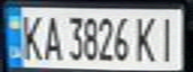2: (97, 14, 118, 62)
3: (63, 12, 84, 62)
6: (112, 12, 136, 63)
8: (81, 12, 100, 62)
A: (39, 11, 63, 62)
I: (154, 12, 184, 62)
K: (15, 10, 45, 62), (133, 12, 160, 63)
